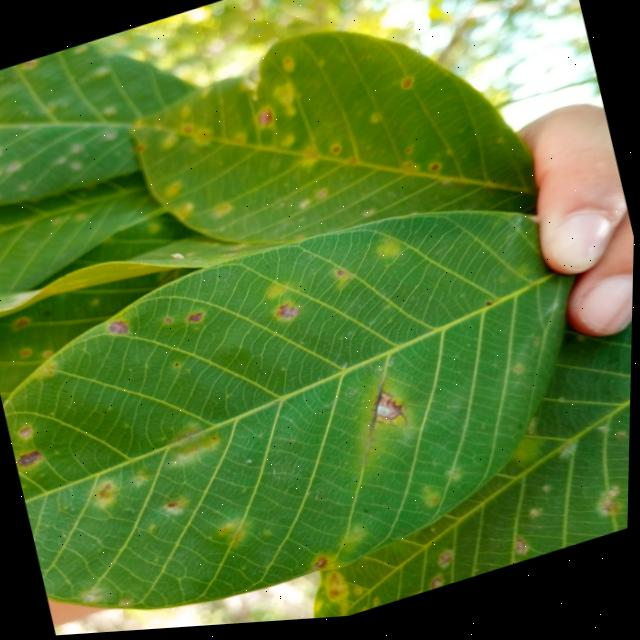Corynespora: (359, 383, 412, 444)
